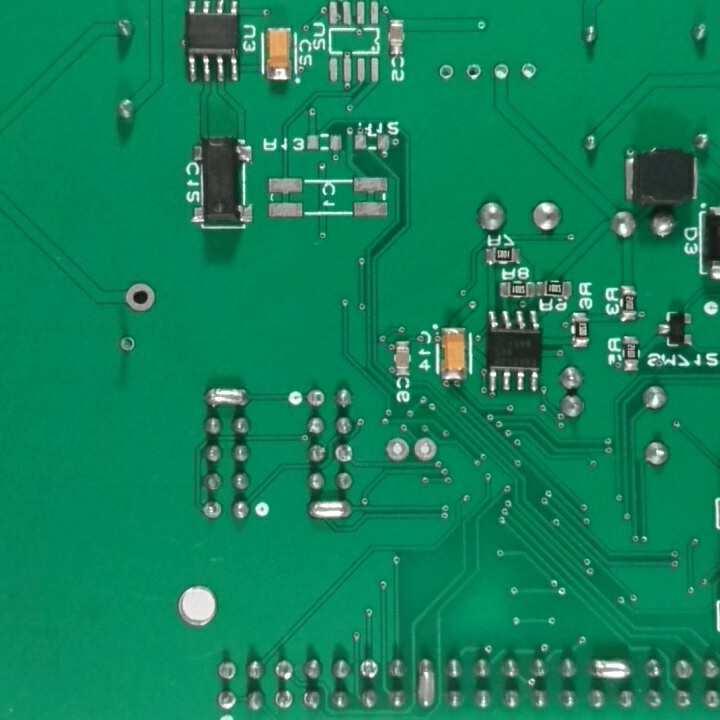F: (123, 282, 159, 312), (411, 435, 442, 465), (383, 435, 411, 464), (201, 497, 223, 524), (491, 60, 513, 84), (334, 441, 354, 466), (307, 385, 326, 411), (435, 60, 456, 83), (273, 689, 295, 710), (116, 334, 139, 354), (358, 658, 377, 680), (520, 61, 539, 83), (216, 689, 233, 712), (465, 59, 482, 81)
P: (414, 654, 439, 712), (589, 656, 634, 683), (203, 386, 251, 411), (305, 500, 353, 523)
